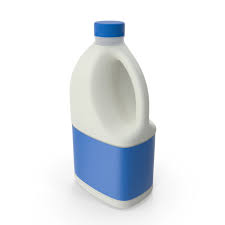unavailable: (62, 15, 166, 213)
